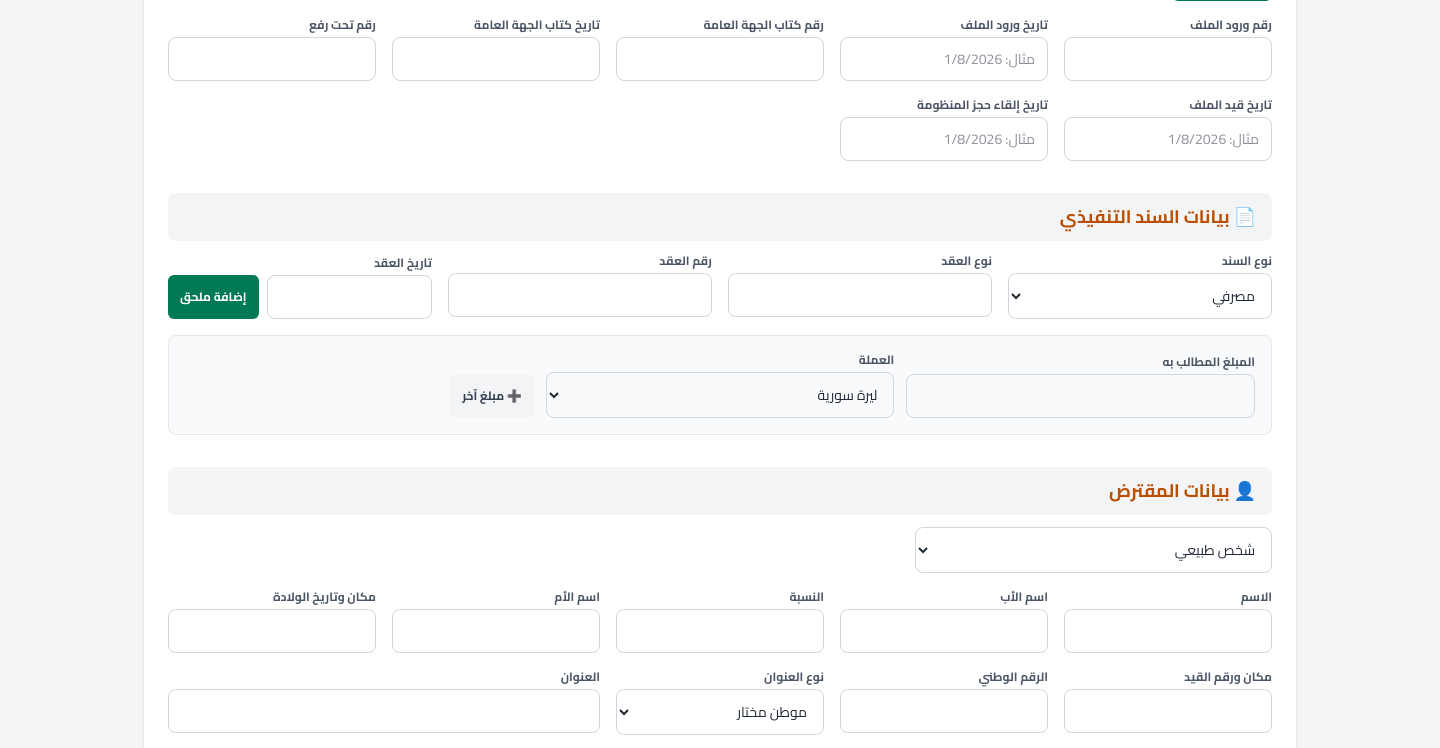
Test case: DocumentForm · الحقول والحمولات › يستثني عملتي المبلغين الأولين من خيارات عملة المبلغ الثالث المصرفي
This screenshot has width=1440, height=748.
(page scrolled)
Type "1000" into the number field labelled "المبلغ المطالب به" at coordinates (1081, 396), box [906, 374, 1255, 418]
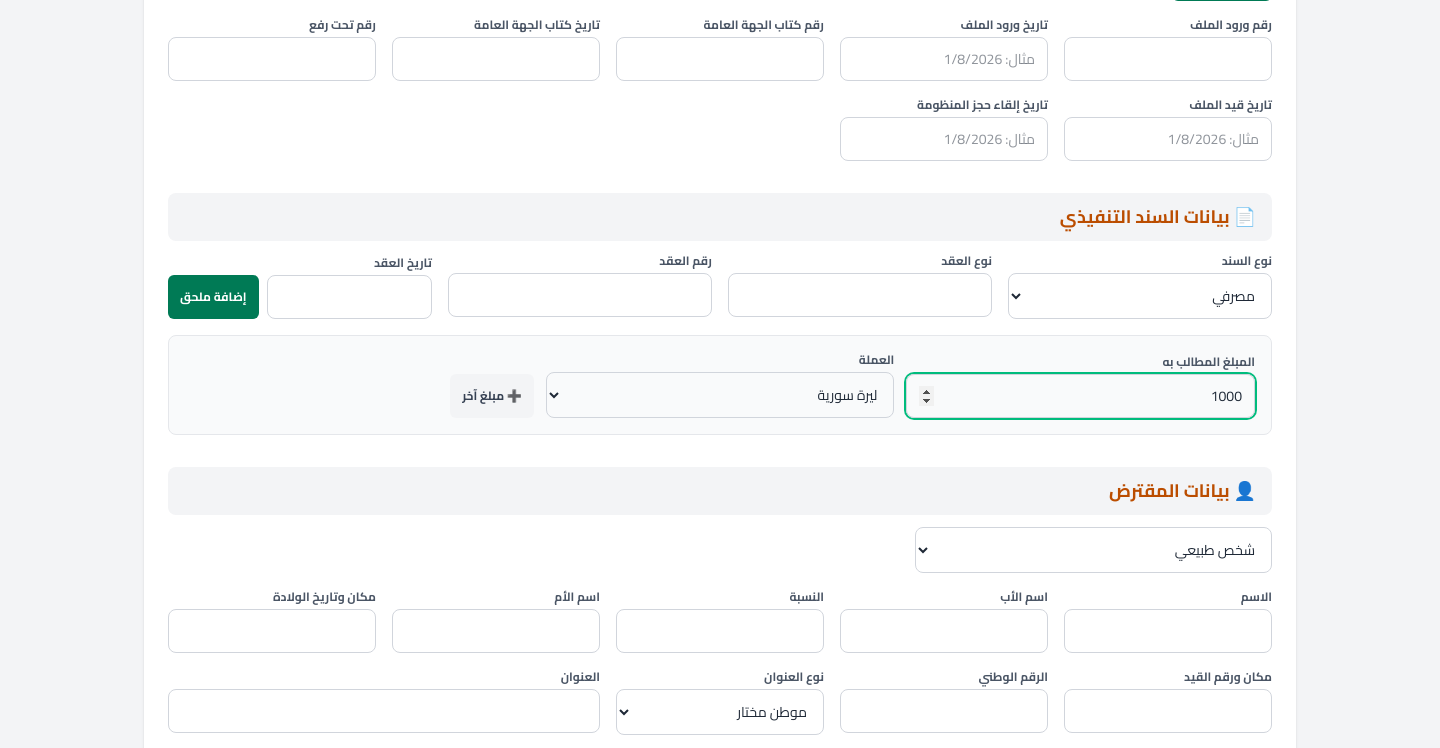
Select "يورو" in the dropdown labelled "العملة" at coordinates (720, 395), box [546, 372, 894, 418]
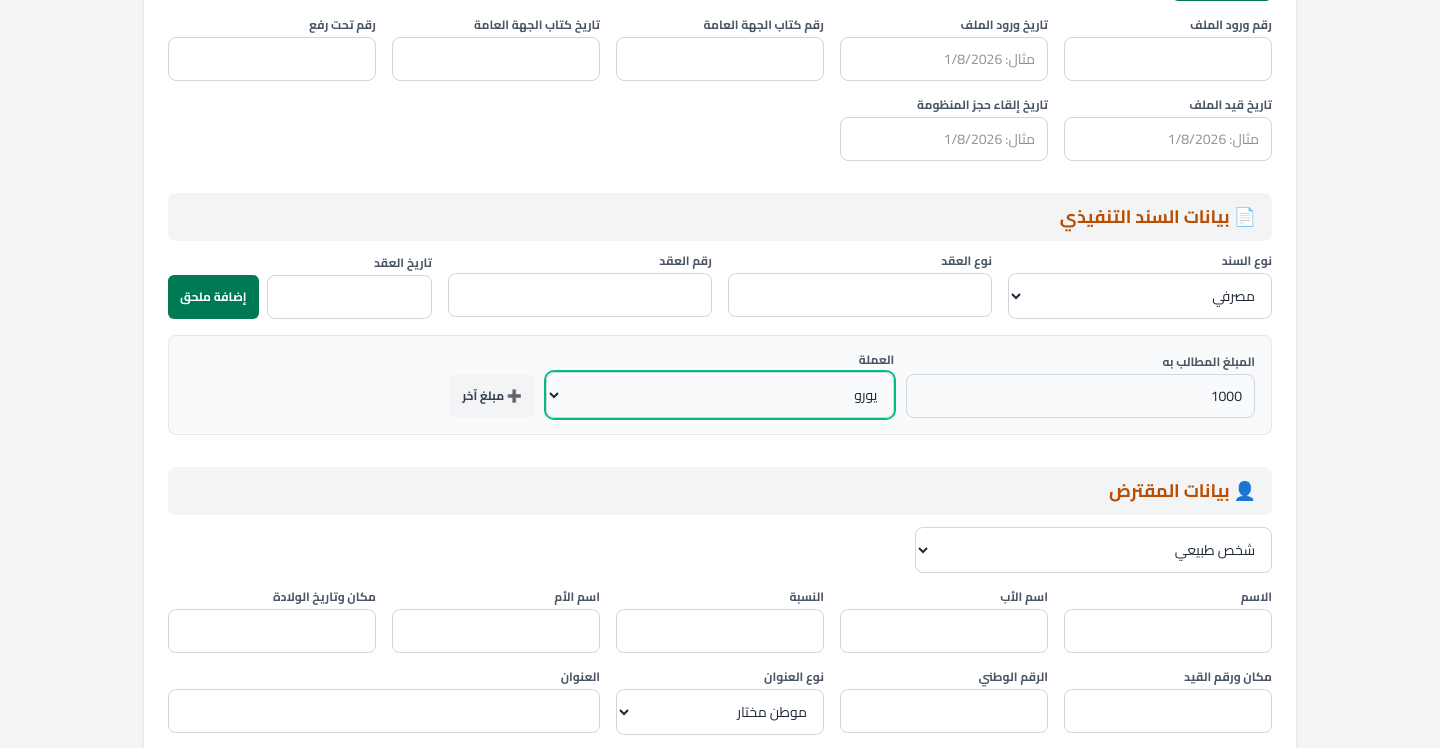
Click the button "➕ مبلغ آخر" at coordinates (492, 396), box [450, 374, 534, 418]
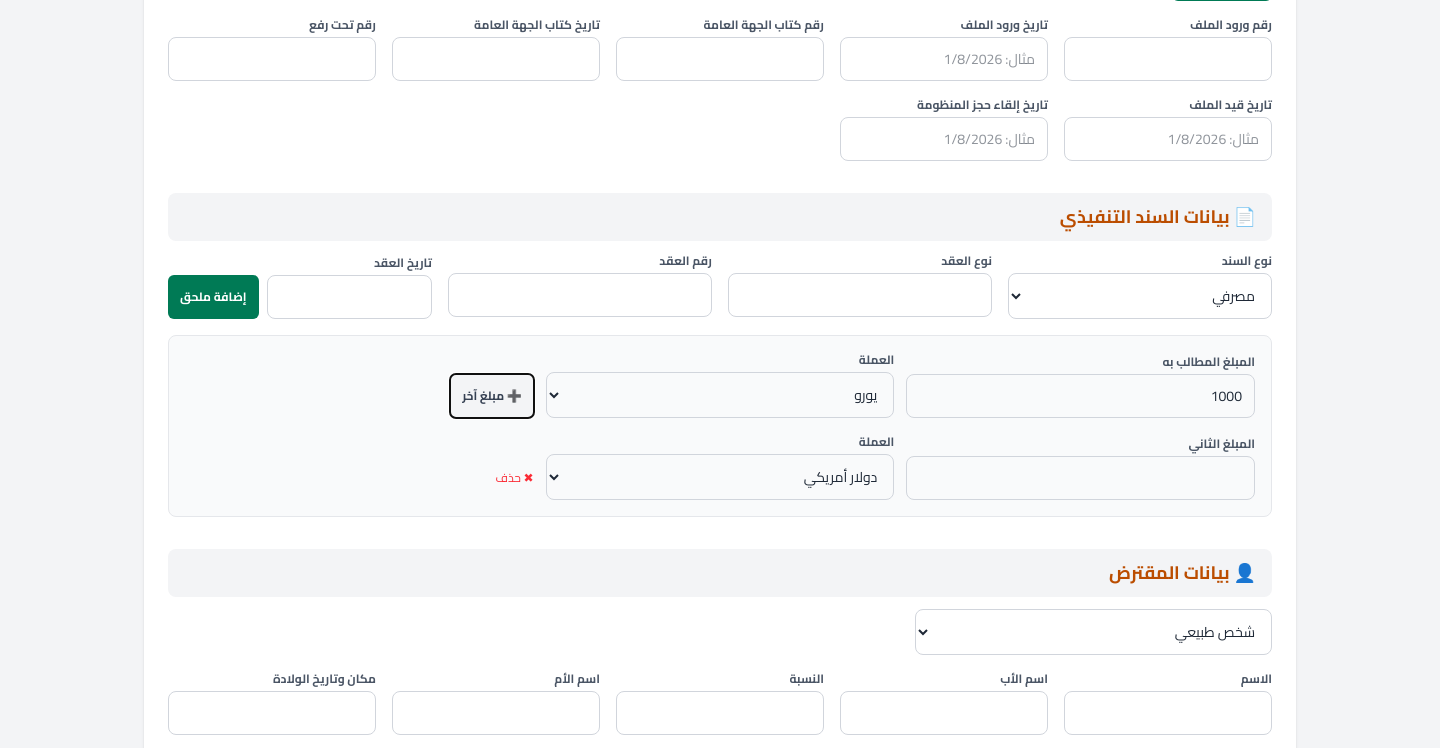
Click the button "➕ مبلغ آخر" at coordinates (492, 396), box [450, 374, 534, 418]
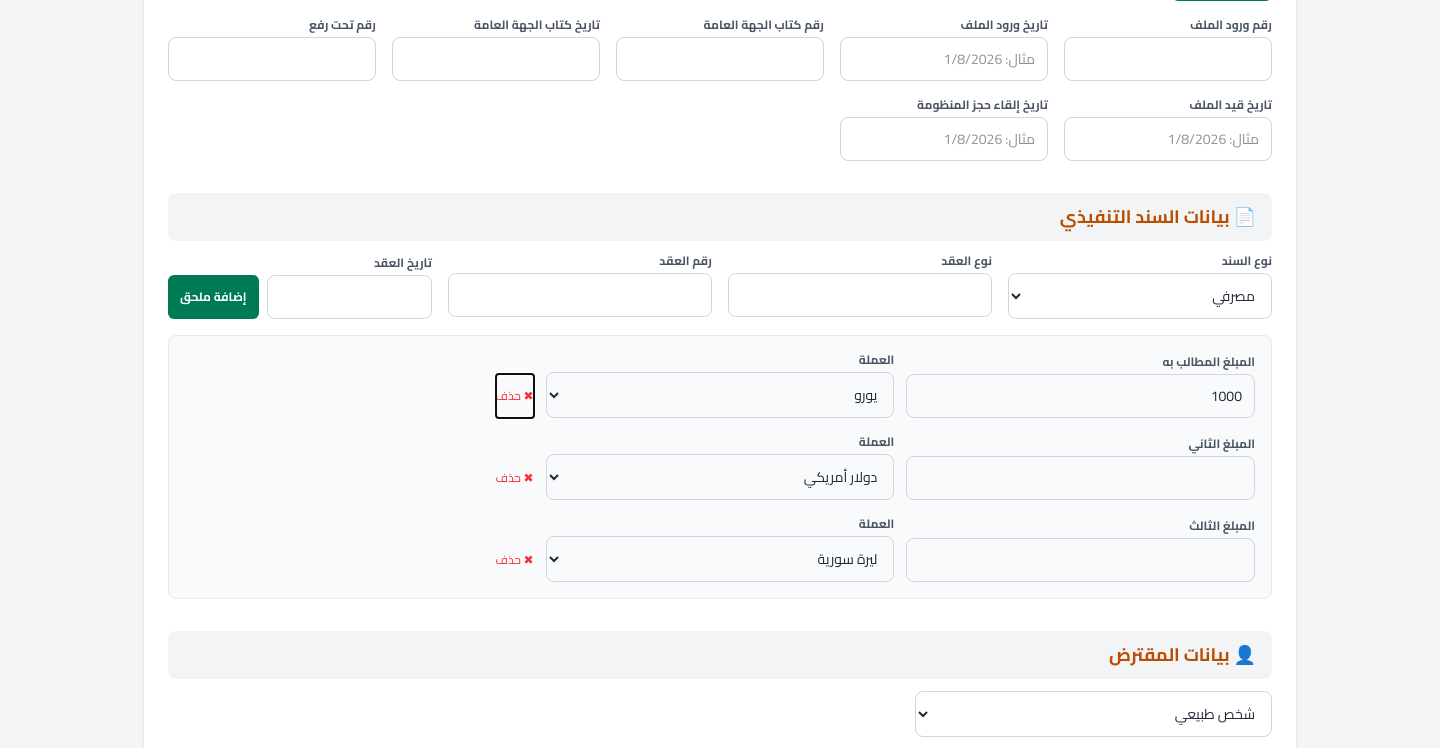
Result: the 3rd dropdown labelled "العملة" shows "ليرة سورية" at [546, 536, 894, 582]
